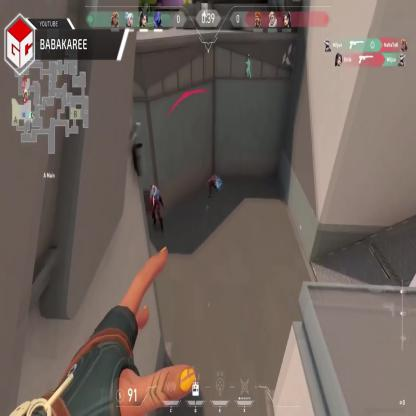enemy: (148, 182, 164, 232)
enemy_head: (152, 184, 156, 193)
